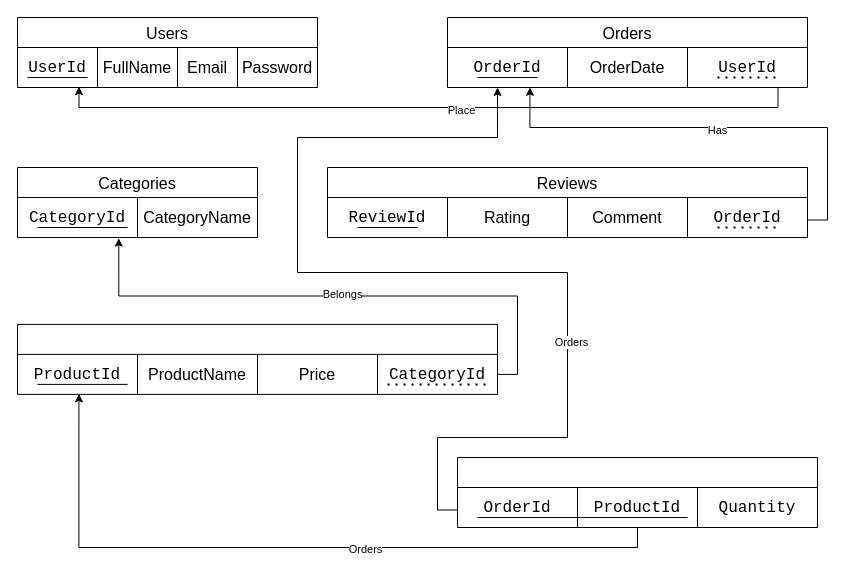
Image size: 853x573. Some labels were removed from this diagram. Here are the shapes that lost their labels. From the top down, the box of each, then its label:
(16, 323, 498, 394): Products
(456, 456, 818, 528): OrderProducts
